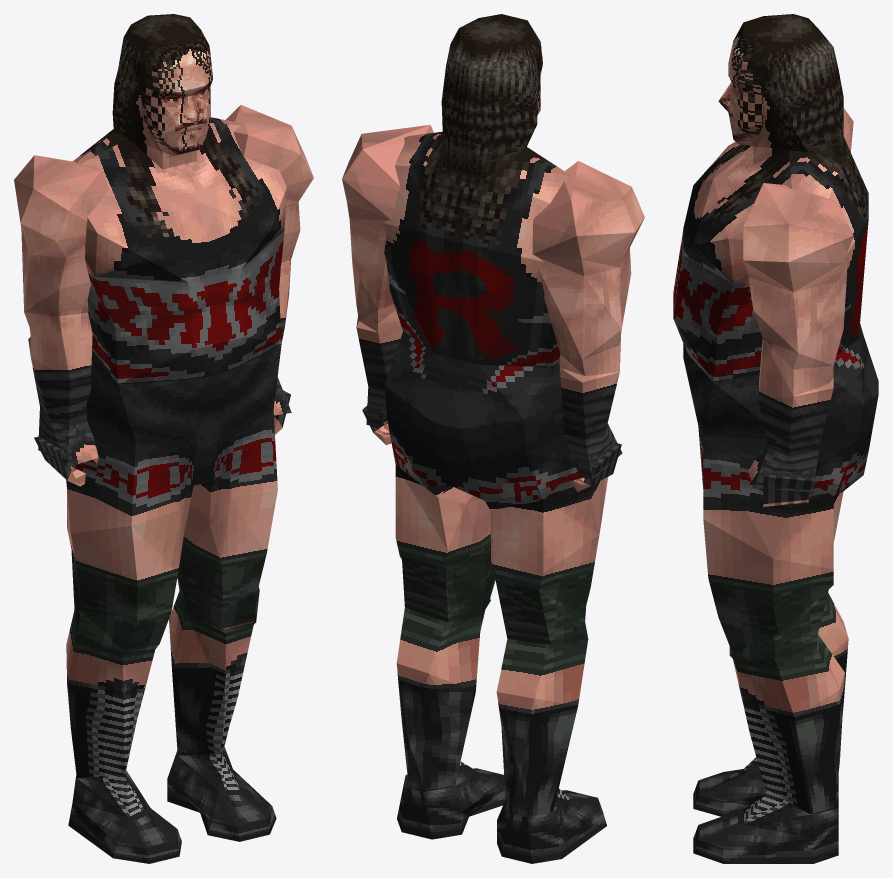
The model's file is rhyno_1.glb.
3 renders of one model, left to right at view 1: azimuth 30°, elevation 25°; view 2: azimuth 150°, elevation 25°; view 3: azimuth 270°, elevation 25°, orthographic.
Parts seen in each view (by area): view 1: 043_393F921E_c.bmp, 028_731D1F38_c.bmp, 040_3D323180_c.bmp, 042_3EFA7BCC_c.bmp, 030_4B0A100D_c.bmp, 027_60FC5100_c.bmp, 039_60FC9850_c.bmp, 033_68F38D04_c.bmp, 049_27A2360F_c.bmp, 012_730F3174_c.bmp, 031_730F9C84_c.bmp, 038_136E00FC_c.bmp (+7 smaller); view 2: 036_60E44AD5_c.bmp, 030_4B0A100D_c.bmp, 027_60FC5100_c.bmp, 039_60FC9850_c.bmp, 033_68F38D04_c.bmp, 041_3764DDA5_c.bmp, 044_43CCFBF_c.bmp, 028_731D1F38_c.bmp, 038_136E00FC_c.bmp, 048_4B0A485D_c.bmp, 042_3EFA7BCC_c.bmp, 012_730F3174_c.bmp (+6 smaller); view 3: 042_3EFA7BCC_c.bmp, 048_4B0A485D_c.bmp, 039_60FC9850_c.bmp, 038_136E00FC_c.bmp, 044_43CCFBF_c.bmp, 043_393F921E_c.bmp, 040_3D323180_c.bmp, 031_730F9C84_c.bmp, 047_30212C5C_c.bmp, 041_3764DDA5_c.bmp, 049_27A2360F_c.bmp, 012_730F3174_c.bmp (+4 smaller).
Part boxes in pixels (box(x1,y1,x2,y2)): 043_393F921E_c.bmp: box(80, 122, 286, 282); 028_731D1F38_c.bmp: box(66, 421, 185, 652); 040_3D323180_c.bmp: box(87, 231, 284, 384); 042_3EFA7BCC_c.bmp: box(178, 410, 277, 628); 030_4B0A100D_c.bmp: box(14, 155, 109, 334); 027_60FC5100_c.bmp: box(66, 550, 159, 778); 039_60FC9850_c.bmp: box(169, 575, 259, 755); 033_68F38D04_c.bmp: box(86, 354, 214, 531); 049_27A2360F_c.bmp: box(140, 29, 212, 155); 012_730F3174_c.bmp: box(68, 770, 181, 863); 031_730F9C84_c.bmp: box(167, 746, 276, 841); 038_136E00FC_c.bmp: box(190, 345, 281, 525); 036_60E44AD5_c.bmp: box(382, 222, 560, 367); 030_4B0A100D_c.bmp: box(532, 161, 644, 375); 027_60FC5100_c.bmp: box(495, 580, 588, 817); 039_60FC9850_c.bmp: box(396, 557, 490, 790); 033_68F38D04_c.bmp: box(447, 359, 575, 510); 041_3764DDA5_c.bmp: box(382, 131, 571, 261); 044_43CCFBF_c.bmp: box(441, 14, 539, 177); 028_731D1F38_c.bmp: box(490, 468, 608, 619); 038_136E00FC_c.bmp: box(385, 331, 479, 503); 048_4B0A485D_c.bmp: box(342, 124, 433, 323); 042_3EFA7BCC_c.bmp: box(395, 465, 495, 598); 012_730F3174_c.bmp: box(497, 788, 606, 863); 042_3EFA7BCC_c.bmp: box(698, 426, 843, 653); 048_4B0A485D_c.bmp: box(743, 183, 853, 383); 039_60FC9850_c.bmp: box(729, 589, 844, 814); 038_136E00FC_c.bmp: box(683, 331, 878, 496); 044_43CCFBF_c.bmp: box(743, 14, 843, 157); 043_393F921E_c.bmp: box(683, 125, 791, 284); 040_3D323180_c.bmp: box(673, 230, 762, 382); 031_730F9C84_c.bmp: box(693, 789, 838, 863); 047_30212C5C_c.bmp: box(758, 339, 833, 456); 041_3764DDA5_c.bmp: box(788, 137, 868, 253); 049_27A2360F_c.bmp: box(718, 23, 763, 146); 012_730F3174_c.bmp: box(693, 757, 838, 816).
Bounding box in the file's own units: 0.066 × 0.177 × 0.041.
Materials: 22 (22 with a texture image).
